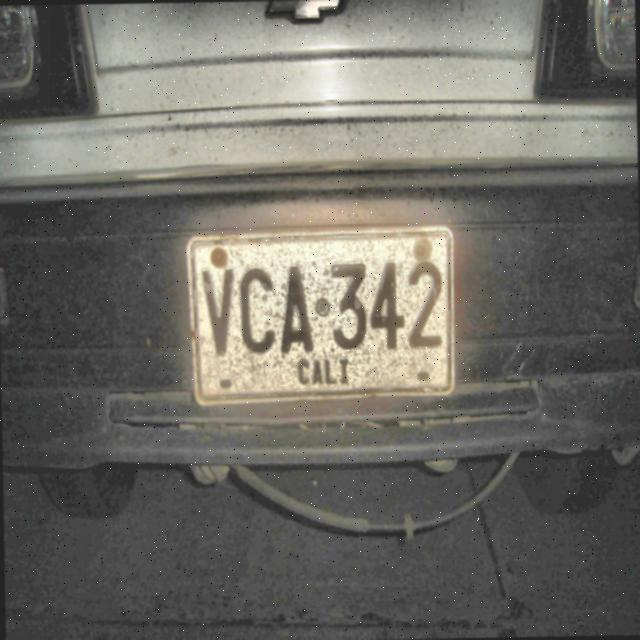2: (406, 260, 444, 356)
3: (329, 260, 368, 354)
4: (368, 260, 408, 354)
A: (278, 262, 316, 356)
C: (237, 264, 278, 358)
V: (199, 267, 237, 358)
